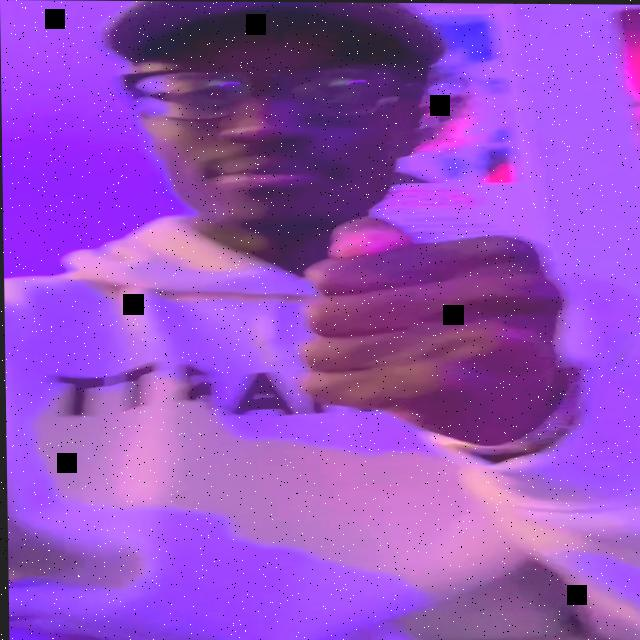Rock: (301, 214, 571, 433)
